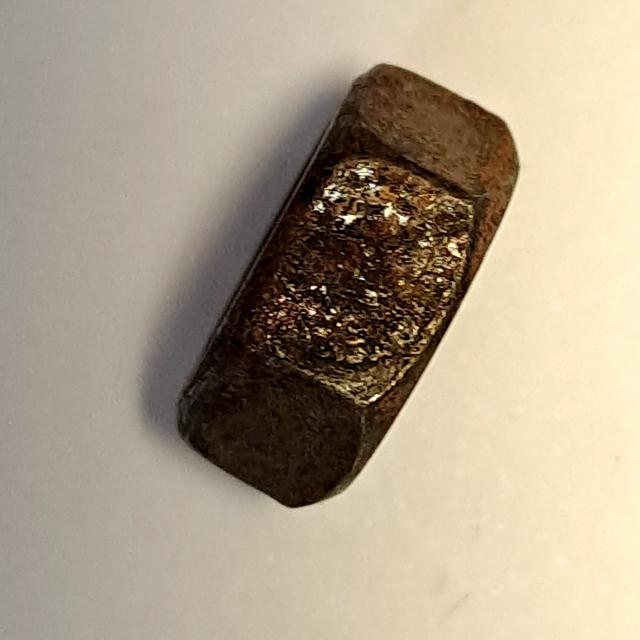Side_Rust: (165, 38, 532, 533)
